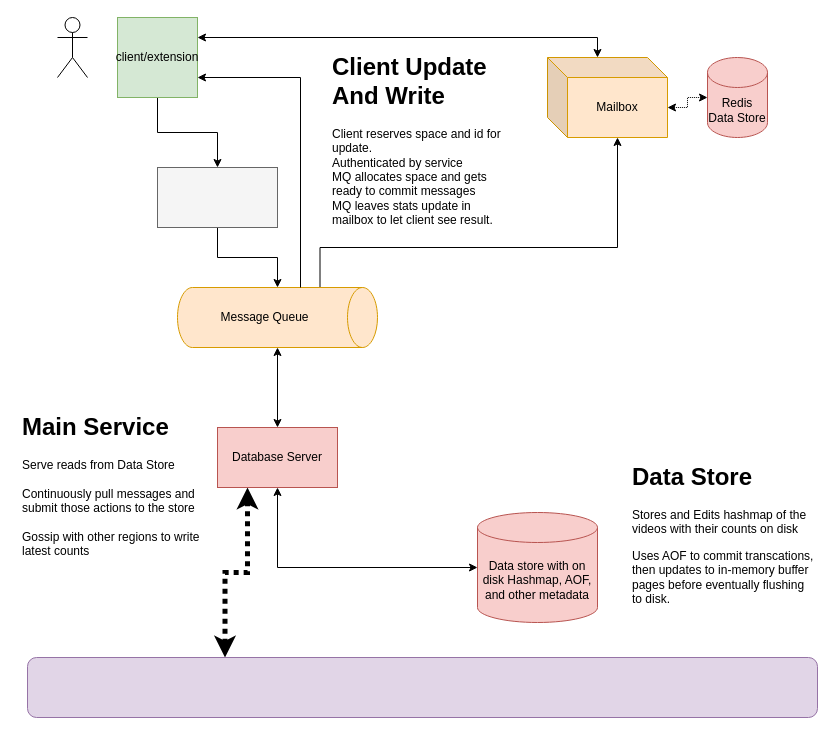
Some shapes in this 835 by 735 pixel diagram are drawn without their labels. The centre of each missing label's shape, as x and y in pixels:
"Auth/ID Service" goes at (x=217, y=197).
"Region To Region Gossip About Like/Dislike Counts" goes at (x=422, y=687).
"user" goes at (x=72, y=47).
